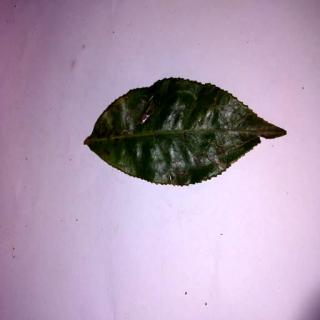Bird Eye Spot: (84, 79, 288, 187)
